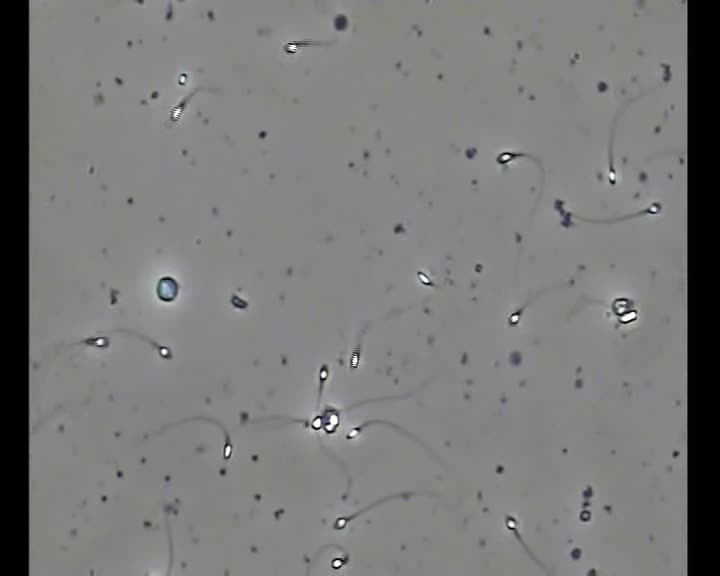spermhead: (156, 276, 178, 302), (321, 407, 340, 433), (611, 297, 633, 316), (163, 496, 182, 516), (83, 336, 109, 349), (496, 151, 520, 165), (230, 291, 248, 309), (618, 309, 638, 324), (330, 554, 348, 570), (416, 270, 434, 286), (332, 13, 348, 31), (169, 102, 184, 121), (508, 308, 522, 326), (349, 349, 360, 369), (223, 436, 232, 460), (505, 514, 517, 532), (561, 210, 573, 228), (397, 490, 416, 501), (646, 201, 661, 214), (333, 516, 348, 529), (346, 426, 361, 439), (158, 345, 172, 358), (310, 415, 322, 430), (319, 364, 328, 383), (285, 41, 298, 54), (553, 198, 565, 212), (579, 508, 591, 522), (607, 168, 617, 184), (177, 72, 188, 85), (239, 409, 249, 423), (301, 418, 310, 428)
